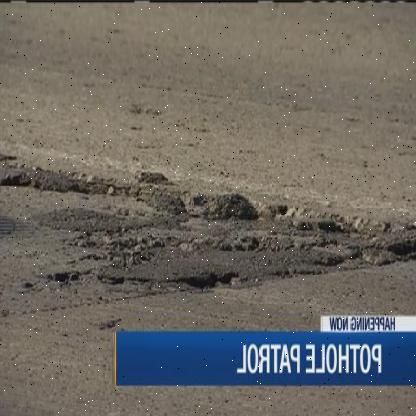damage: (76, 169, 380, 302)
